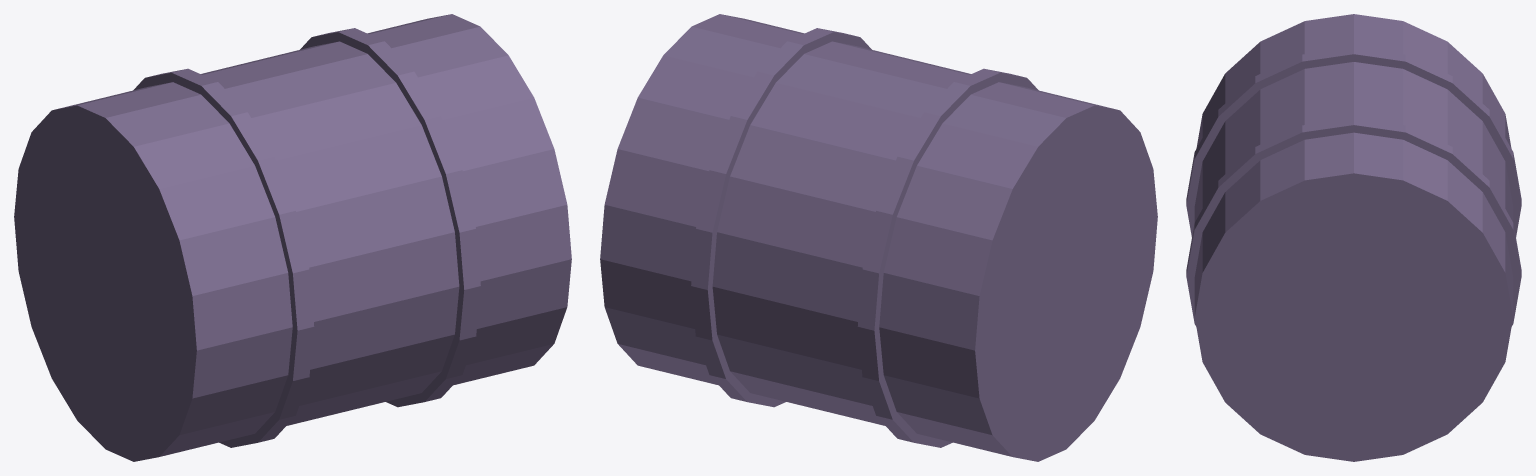
The model's file is vge_astrofuel_barrel_c.obj.
3 renders of one model, left to right at view 1: azimuth 30°, elevation 25°; view 2: azimuth 150°, elevation 25°; view 3: azimuth 270°, elevation 25°, orthographic. The views are drawn at different scales.
Parts seen in each view (by area): view 1: vge_astrofuel_barrel_c_0, vge_astrofuel_barrel_c_1, vge_astrofuel_barrel_c_2; view 2: vge_astrofuel_barrel_c_0, vge_astrofuel_barrel_c_1, vge_astrofuel_barrel_c_2; view 3: vge_astrofuel_barrel_c_0, vge_astrofuel_barrel_c_2, vge_astrofuel_barrel_c_1.
Boxes of the visible parts, left/top/right/bottom form: vge_astrofuel_barrel_c_0: left=14, top=14, right=571, bottom=461; vge_astrofuel_barrel_c_1: left=133, top=68, right=314, bottom=447; vge_astrofuel_barrel_c_2: left=300, top=28, right=480, bottom=407; vge_astrofuel_barrel_c_0: left=600, top=14, right=1157, bottom=461; vge_astrofuel_barrel_c_1: left=857, top=68, right=1038, bottom=447; vge_astrofuel_barrel_c_2: left=691, top=28, right=871, bottom=407; vge_astrofuel_barrel_c_0: left=1194, top=14, right=1513, bottom=461; vge_astrofuel_barrel_c_2: left=1186, top=118, right=1521, bottom=326; vge_astrofuel_barrel_c_1: left=1186, top=47, right=1521, bottom=236.
Size of the model in its own units: 0.9 by 0.8 by 0.8.
